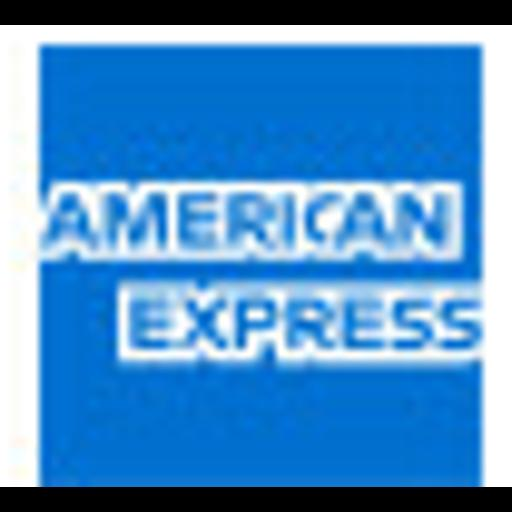American Express: (0, 25, 512, 487)
